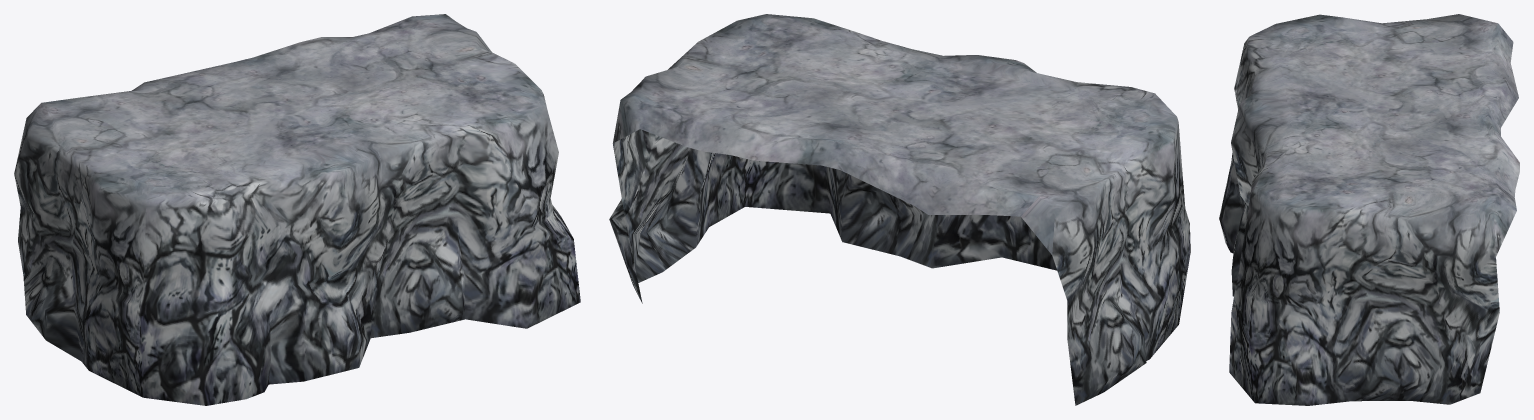
The model's file is STR_FloorCaveD.FBX.
3 views of the same model, side by side, from view 1: azimuth 30°, elevation 25°; view 2: azimuth 150°, elevation 25°; view 3: azimuth 270°, elevation 25° (orthographic). The views are drawn at different scales.
Parts seen in each view (by area): view 1: STR_FloorCaveD; view 2: STR_FloorCaveD; view 3: STR_FloorCaveD.
Part boxes in pixels (x1,y1,x2,y2): STR_FloorCaveD: [14, 14, 580, 405]; STR_FloorCaveD: [609, 14, 1190, 405]; STR_FloorCaveD: [1219, 14, 1519, 405].
Size of the model in its own units: 998 by 408 by 579.
